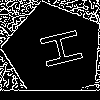H: (29, 26, 84, 73)
